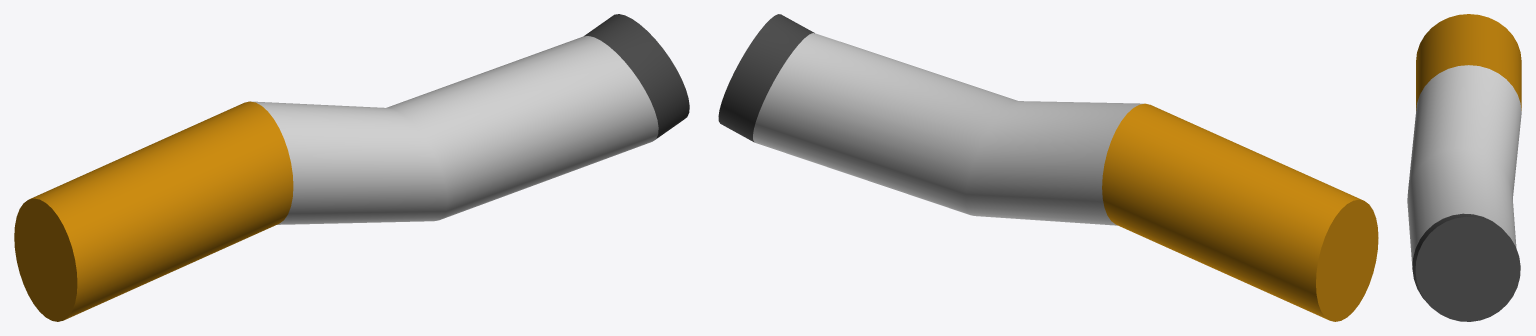
Rendered from Cig-Busted.fbx.
3 renders of one model, left to right at view 1: azimuth 30°, elevation 25°; view 2: azimuth 150°, elevation 25°; view 3: azimuth 270°, elevation 25°, orthographic. The views are drawn at different scales.
Visible parts, largest first — view 1: Cig2; view 2: Cig2; view 3: Cig2.
Boxes of the visible parts, x1,y1,x2,y2 form: Cig2: [14, 14, 689, 321]; Cig2: [718, 14, 1378, 321]; Cig2: [1407, 14, 1521, 321].
Bounding box in the file's own units: 158 × 30.01 × 38.46.
